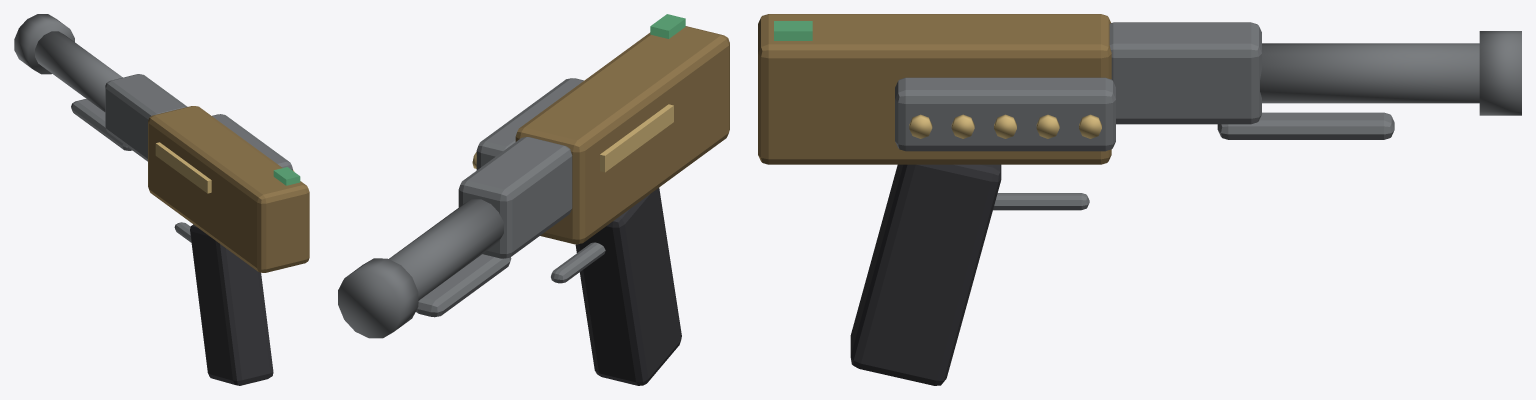
Rendered from rivet_driver.glb.
The picture shows the model from 3 angles, left to right: view 1: azimuth 30°, elevation 25°; view 2: azimuth 150°, elevation 25°; view 3: azimuth 270°, elevation 25°; orthographic projection. The views are drawn at different scales.
Visible parts, largest first — view 1: Cube, Cube.003, Cube.001, Cylinder, Cylinder.001, Cube.007, Cube.002, Cube.005, Cube.006; view 2: Cube, Cube.003, Cube.001, Cylinder, Cylinder.001, Cube.002, Cube.005, Cube.007, Cube.004, Cube.006; view 3: Cube, Cube.003, Cube.001, Cube.005, Cylinder, Cube.002, Cylinder.001, Cube.004, Cube.006.
Boxes of the visible parts, left/top/right/bottom form: Cube: left=148, top=106, right=309, bottom=272; Cube.003: left=190, top=224, right=273, bottom=385; Cube.001: left=105, top=74, right=187, bottom=161; Cylinder: left=35, top=31, right=122, bottom=111; Cylinder.001: left=14, top=14, right=74, bottom=74; Cube.007: left=155, top=142, right=211, bottom=193; Cube.002: left=71, top=99, right=132, bottom=150; Cube.005: left=212, top=114, right=292, bottom=170; Cube.006: left=273, top=167, right=300, bottom=185; Cube: left=515, top=26, right=729, bottom=244; Cube.003: left=575, top=188, right=681, bottom=385; Cube.001: left=458, top=137, right=572, bottom=258; Cylinder: left=389, top=199, right=503, bottom=300; Cylinder.001: left=338, top=258, right=418, bottom=338; Cube.002: left=416, top=254, right=511, bottom=317; Cube.005: left=476, top=78, right=583, bottom=170; Cube.007: left=600, top=104, right=673, bottom=172; Cube.004: left=551, top=242, right=605, bottom=283; Cube.006: left=650, top=14, right=685, bottom=38; Cube: left=758, top=14, right=1111, bottom=164; Cube.003: left=850, top=164, right=1001, bottom=385; Cube.001: left=1109, top=22, right=1261, bottom=124; Cube.005: left=895, top=77, right=1115, bottom=151; Cylinder: left=1260, top=43, right=1479, bottom=103; Cube.002: left=1217, top=112, right=1394, bottom=139; Cylinder.001: left=1479, top=31, right=1521, bottom=115; Cube.004: left=993, top=193, right=1089, bottom=210; Cube.006: left=774, top=21, right=812, bottom=40.
Bounding box in the file's own units: 0.089 × 0.2232 × 0.432.
